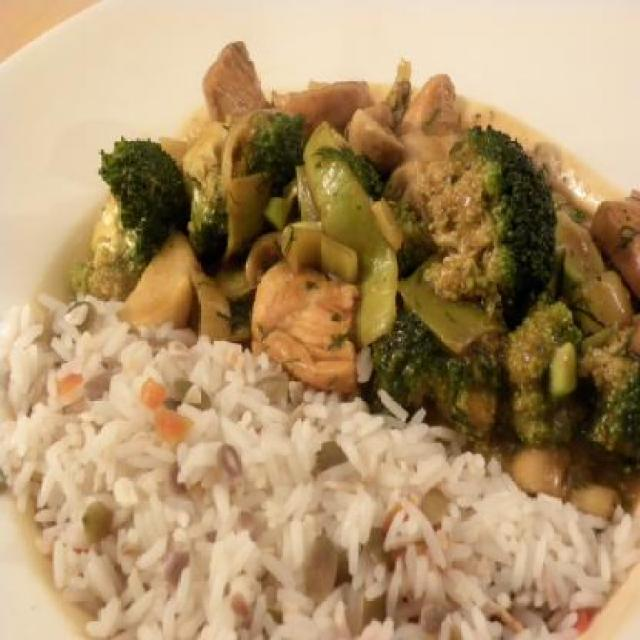Broccoli: (415, 119, 557, 316), (97, 132, 188, 271), (584, 342, 638, 464), (248, 111, 303, 186), (187, 186, 233, 268)
